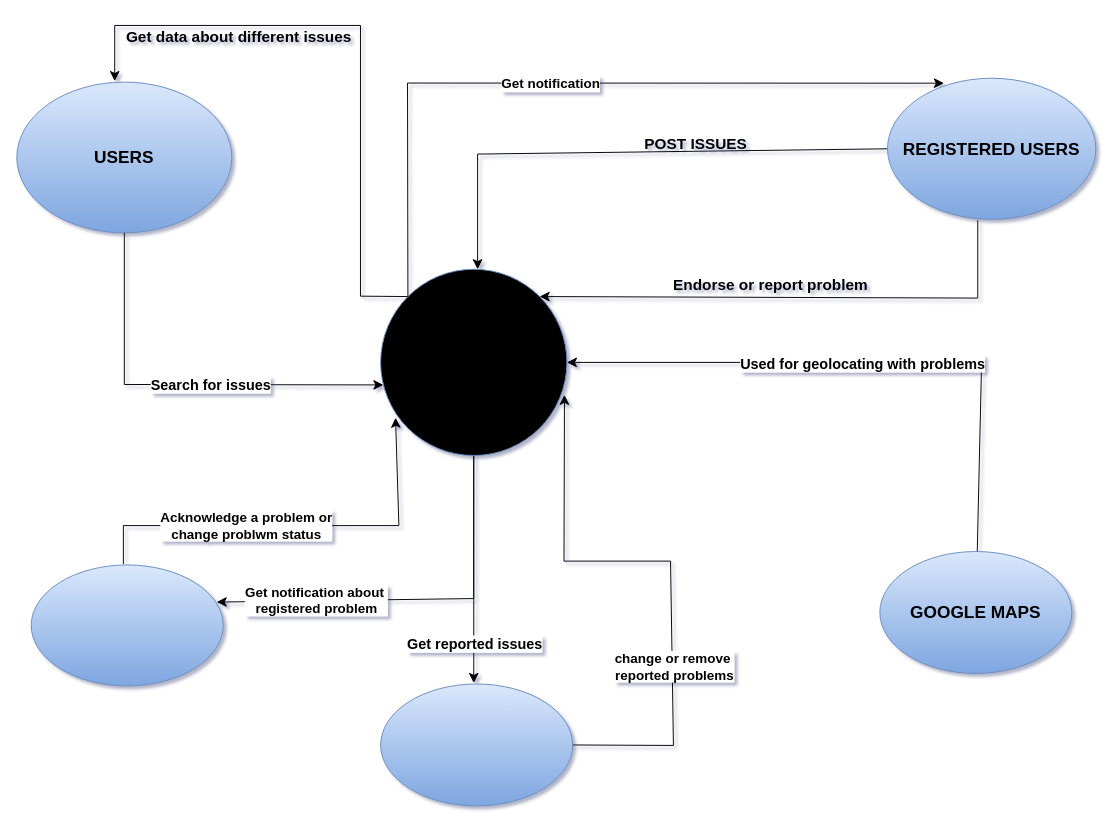
The diagram is 1118 pixels wide and 828 high, and some of its shapes have lost their labels. Each missing label, with the centre of its shape:
ADMIN: the point at 476,744
NGO/ NPO: the point at 126,625
